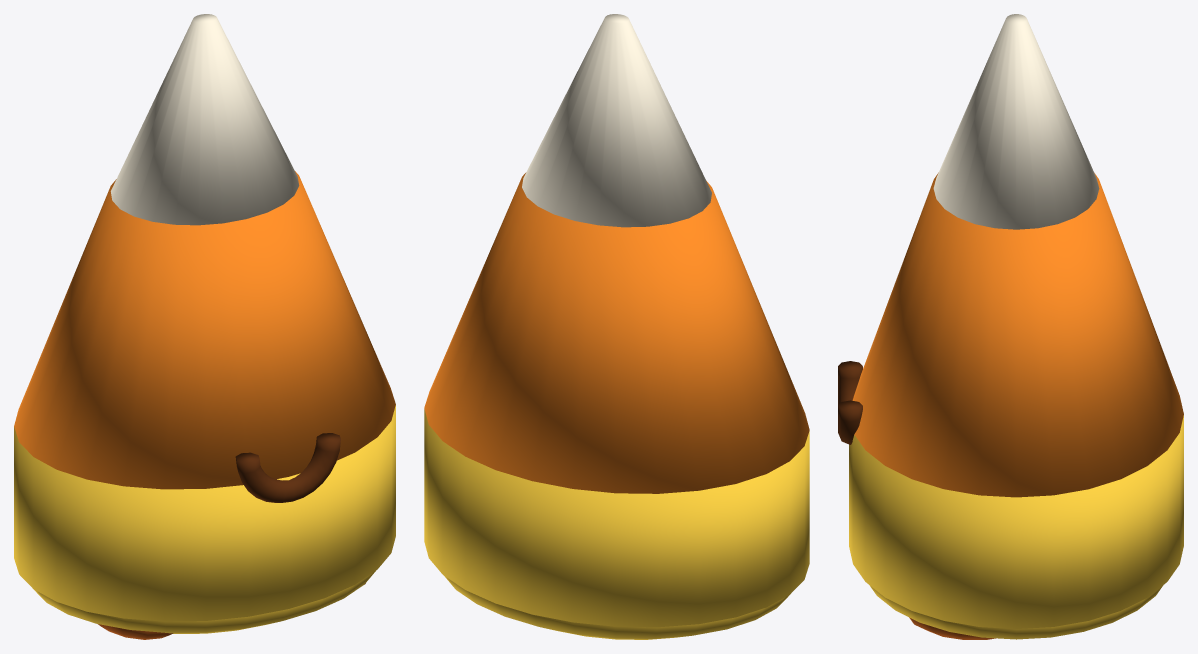
File: H02_CandyCorny.fbx
3 renders of one model, left to right at view 1: azimuth 30°, elevation 25°; view 2: azimuth 150°, elevation 25°; view 3: azimuth 270°, elevation 25°, orthographic.
Visible parts, largest first — view 1: H02_CandyCorny__Orange, H02_CandyCorny__Yellow, H02_CandyCorny__Tip, H02_CandyCorny__Mouth; view 2: H02_CandyCorny__Orange, H02_CandyCorny__Yellow, H02_CandyCorny__Tip; view 3: H02_CandyCorny__Orange, H02_CandyCorny__Yellow, H02_CandyCorny__Tip, H02_CandyCorny__Mouth.
Part boxes in pixels (left/top/right/bottom): H02_CandyCorny__Orange: left=14, top=171, right=395, bottom=489; H02_CandyCorny__Yellow: left=14, top=405, right=395, bottom=633; H02_CandyCorny__Tip: left=110, top=14, right=299, bottom=225; H02_CandyCorny__Mouth: left=235, top=433, right=340, bottom=502; H02_CandyCorny__Orange: left=424, top=173, right=809, bottom=493; H02_CandyCorny__Yellow: left=424, top=409, right=809, bottom=639; H02_CandyCorny__Tip: left=522, top=14, right=711, bottom=227; H02_CandyCorny__Orange: left=852, top=172, right=1183, bottom=497; H02_CandyCorny__Yellow: left=849, top=415, right=1183, bottom=639; H02_CandyCorny__Tip: left=933, top=14, right=1099, bottom=229; H02_CandyCorny__Mouth: left=838, top=361, right=862, bottom=444.
Size of the model in its own units: 1.9 by 3.07 by 1.67.
